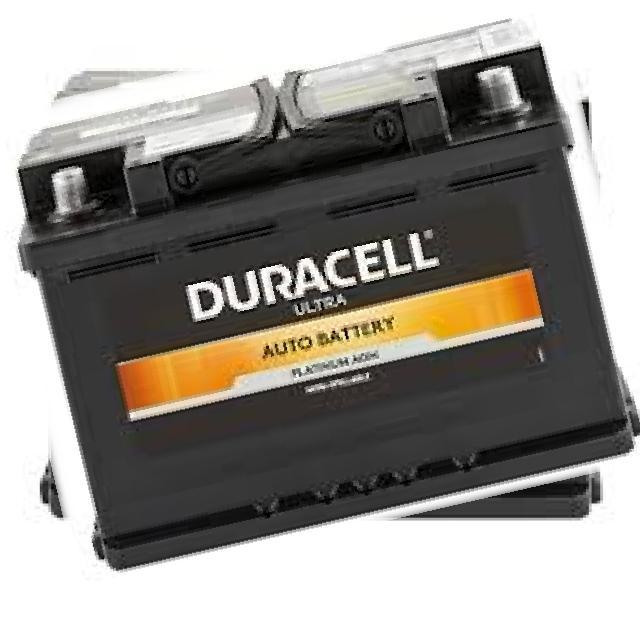Battery: (0, 10, 640, 594)
